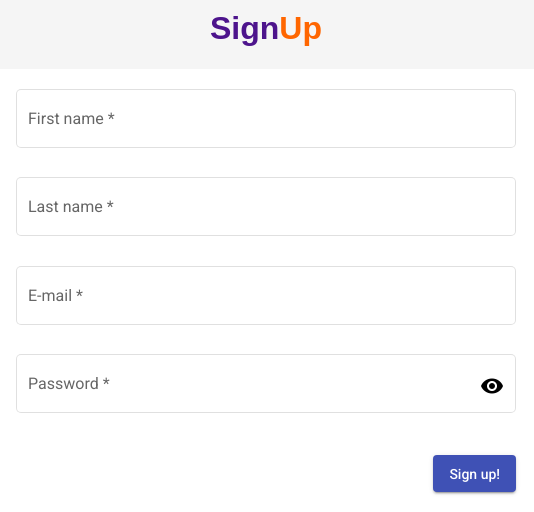
Test case: Fe-Sign-Up-App E2E Tests › should show form cross validation error when password is compromised
This screenshot has width=534, height=512.
In the field with test id "firstName": (266, 123) [28,114,504,132], type "A"
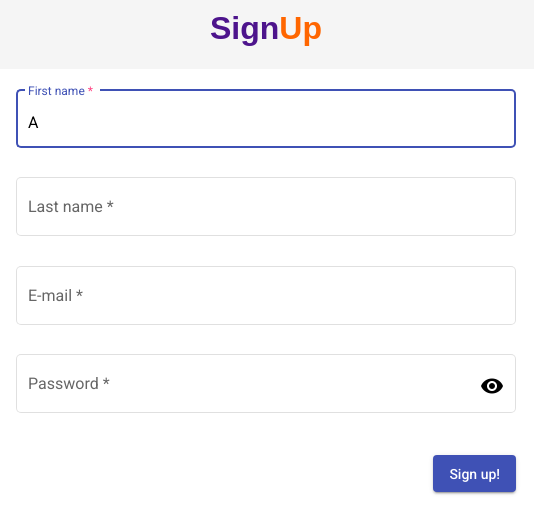
In the password field with test id "password": (254, 388) [28,379,480,397], type "aaaaaaaaA"
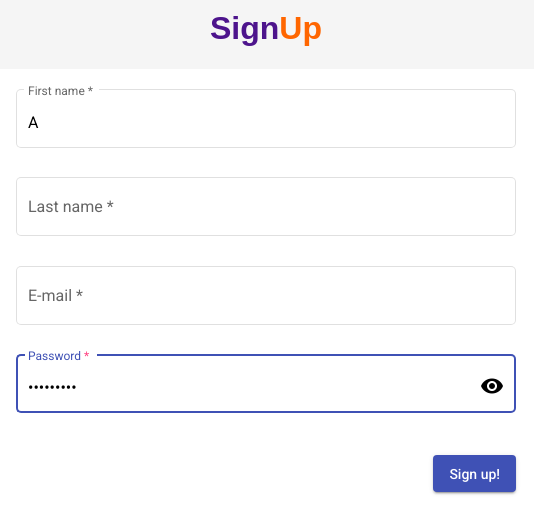
Click the button with test id "submit": (475, 474) [433,455,516,492]
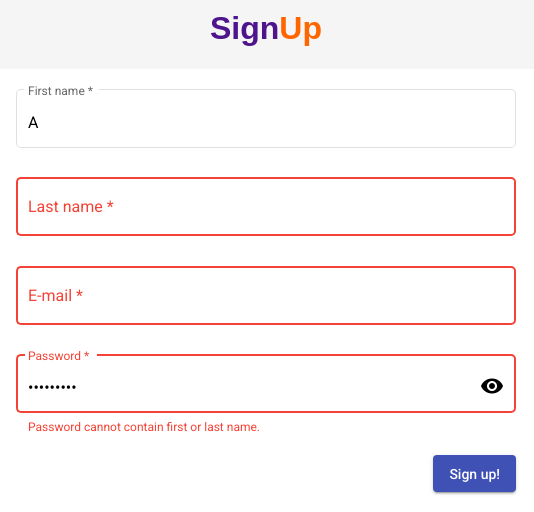
Expected: the number of elements with test id "errorMessage" is 1, [28,420,260,434]
Expected: the element with test id "errorMessage" reads "Password cannot contain first or last name.", [28,420,260,434]
